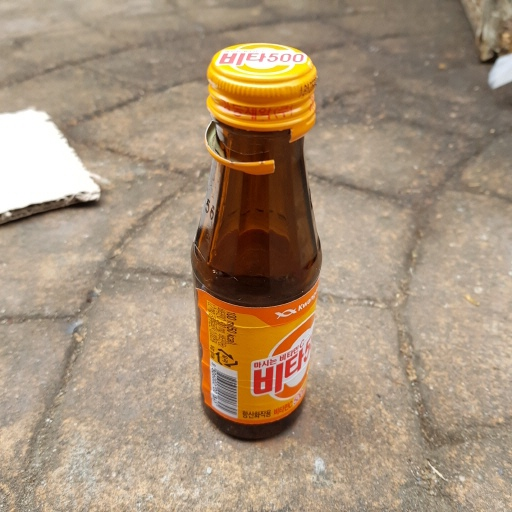Glass_3: (184, 38, 329, 445)
